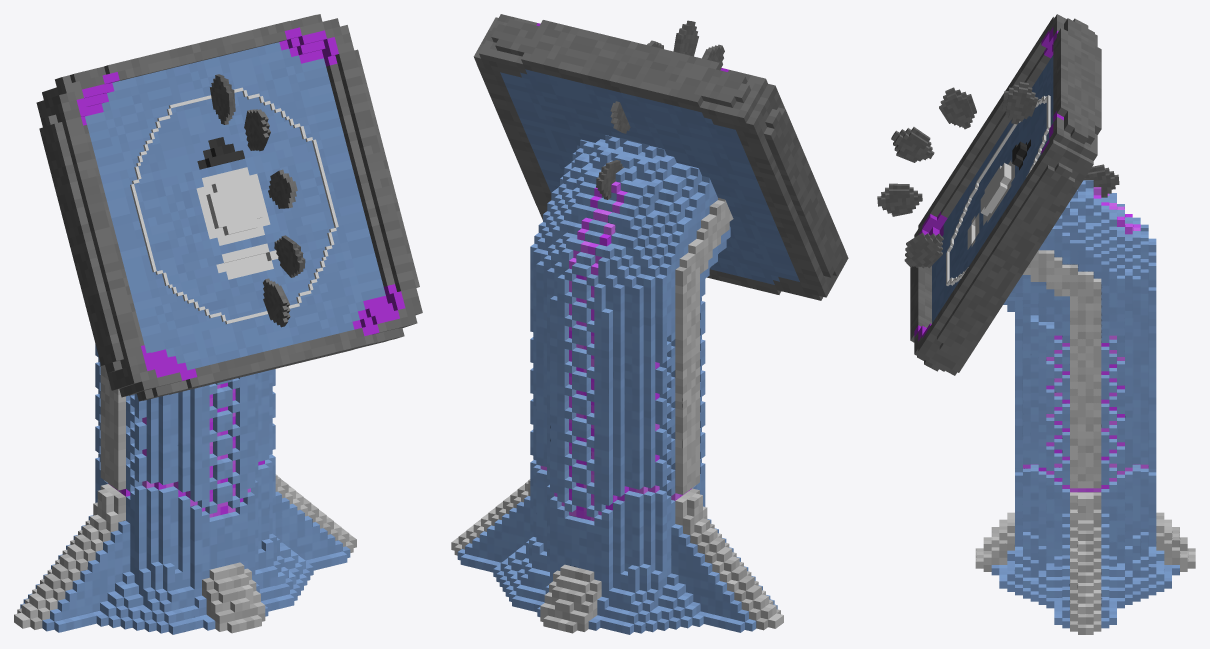
The model's file is Terminal2.fbx.
The picture shows the model from 3 angles, left to right: view 1: azimuth 30°, elevation 25°; view 2: azimuth 150°, elevation 25°; view 3: azimuth 270°, elevation 25°; orthographic projection. The views are drawn at different scales.
Parts seen in each view (by area): view 1: Screen, Stand, RuneSpace, Cirlce, ProgressBar, Rune.007, Rune.003, Rune.006, Rune.004, Rune.005; view 2: Stand, Screen, Rune.006, Rune.009; view 3: Stand, Screen, Cirlce, RuneSpace, Rune.005, Rune.004, Rune.003, Rune.006, Rune.007, Rune.009.
Part boxes in pixels (x1,y1,x2,y2): Screen: (36,14,422,401); Stand: (14,344,356,634); RuneSpace: (196,167,270,245); Cirlce: (130,87,338,324); ProgressBar: (216,243,278,279); Rune.007: (210,74,235,124); Rune.003: (263,278,290,327); Rune.006: (244,109,270,151); Rune.004: (274,235,305,277); Rune.005: (268,169,297,208); Stand: (451,135,783,634); Screen: (473,14,848,300); Rune.006: (673,20,698,56); Rune.009: (596,160,623,199); Stand: (975,180,1195,634); Screen: (910,14,1101,375); Cirlce: (946,95,1050,285); RuneSpace: (980,160,1014,225); Rune.005: (891,127,934,162); Rune.004: (877,183,922,216); Rune.003: (904,232,943,268); Rune.006: (939,87,976,129); Rune.007: (1002,81,1038,124); Rune.009: (1084,164,1119,197).
Bounding box in the file's own units: 4.4 × 6.95 × 4.05.
